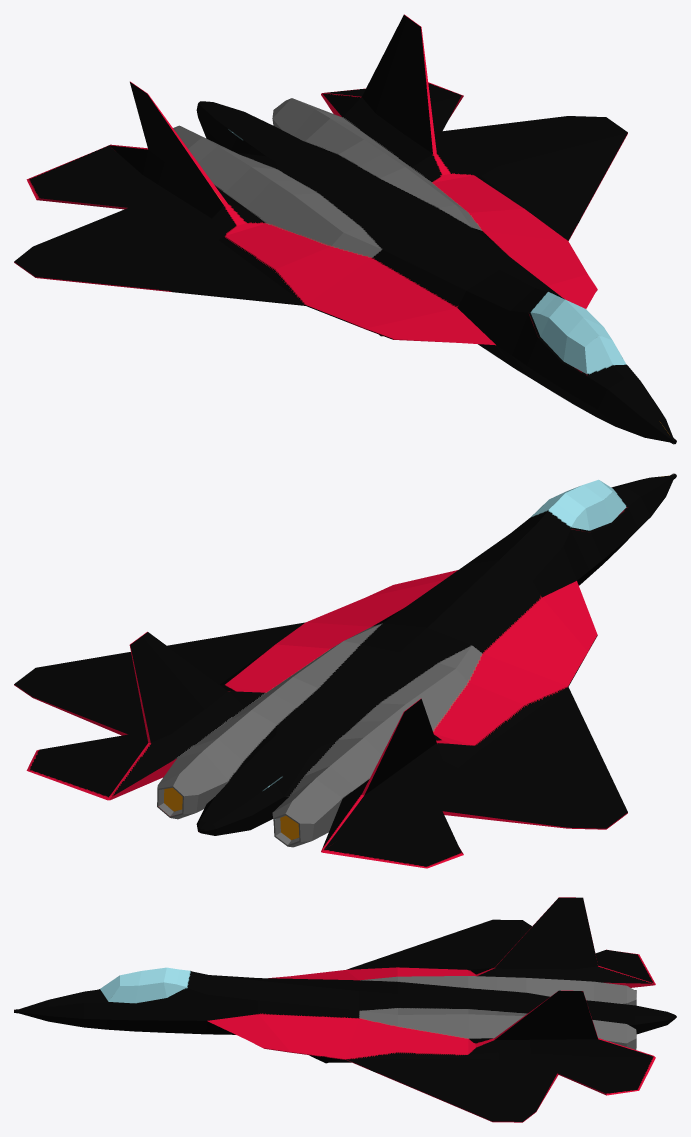
The model's file is spaceship1.gltf.
The picture shows the model from 3 angles, top to bottom: view 1: azimuth 30°, elevation 25°; view 2: azimuth 150°, elevation 25°; view 3: azimuth 270°, elevation 25°; orthographic projection. The views are drawn at different scales.
Visible parts, largest first — view 1: Cube; view 2: Cube; view 3: Cube.
Boxes of the visible parts, left/top/right/bottom form: Cube: left=14, top=14, right=676, bottom=444; Cube: left=14, top=473, right=676, bottom=868; Cube: left=14, top=897, right=676, bottom=1122.
Size of the model in its own units: 6.75 by 1.53 by 9.36.
1 material, 1 textured.
